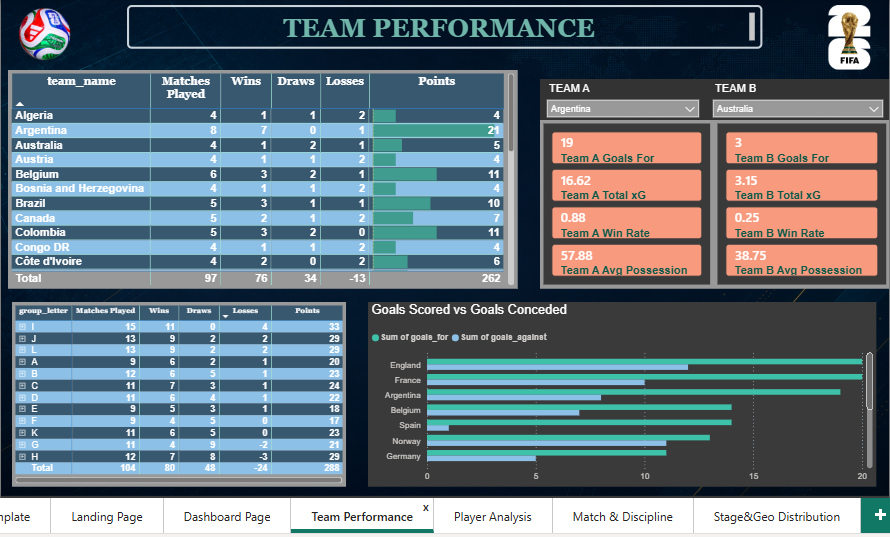

Layout of this report page (visuals, bound fields, positions):
{"tool":"powerbi","page":{"name":"Team Performance","canvas":[1280,720],"ordinal":3},"visuals":[{"type":"image","box":[1161.4,10,118.3,93.3],"z":0},{"type":"image","title":"Navigation","box":[0,10.1,125.3,80.6],"z":1000},{"type":"textbox","box":[181.4,10.1,915,63.3],"z":2000},{"type":"tableEx","fields":{"Values":["teams.team_name","_Measures.Matches Played (Team)","_Measures.Wins","_Measures.Draws","_Measures.Losses","_Measures.Points"]},"box":[10.1,103.7,734.4,315.4],"z":3000},{"type":"pivotTable","fields":{"Rows":["teams.group_letter","teams.team_name"],"Values":["_Measures.Matches Played","_Measures.Wins","_Measures.Draws","_Measures.Losses","_Measures.Points"]},"box":[15.8,437.8,481,266.4],"z":4000},{"type":"clusteredBarChart","title":"Goals Scored vs Goals Conceded","fields":{"Category":["teams.team_name"],"Y":["Sum(match_team_bridge.goals_for)","Sum(match_team_bridge.goals_against)"]},"box":[528.5,437.8,731.5,266.4],"z":5000},{"type":"slicer","fields":{"Values":["Team A Selector.team_name"]},"box":[776.2,116.6,239,59],"z":6000},{"type":"slicer","fields":{"Values":["Team B Selector.team_name"]},"box":[1015.2,116.6,265,59],"z":7000},{"type":"cardVisual","fields":{"Data":["_Measures.Team A Goals For","_Measures.Team A Total xG","_Measures.Team A Win Rate","_Measures.Team A Avg Possession"]},"box":[776.2,175.7,250.6,243.4],"z":8000},{"type":"cardVisual","fields":{"Data":["_Measures.Team B Goals For","_Measures.Team B Total xG","_Measures.Team B Win Rate","_Measures.Team B Avg Possession"]},"box":[1026.7,175.7,253.4,243.4],"z":9000}]}

Visuals, with their boxes in screenshot pixels (x1, y1, x2, y2):
image: (left=801, top=5, right=882, bottom=69)
"Navigation" image: (left=5, top=5, right=91, bottom=60)
textbox: (left=129, top=5, right=756, bottom=48)
tableEx - teams.team_name x _Measures.Matches Played (Team): (left=12, top=69, right=515, bottom=285)
pivotTable - teams.group_letter x teams.team_name: (left=15, top=298, right=345, bottom=481)
"Goals Scored vs Goals Conceded" clusteredBarChart: (left=367, top=298, right=869, bottom=481)
slicer - Team A Selector.team_name: (left=537, top=78, right=701, bottom=118)
slicer - Team B Selector.team_name: (left=701, top=78, right=882, bottom=118)
cardVisual - _Measures.Team A Goals For x _Measures.Team A Total xG: (left=537, top=118, right=709, bottom=285)
cardVisual - _Measures.Team B Goals For x _Measures.Team B Total xG: (left=709, top=118, right=882, bottom=285)
